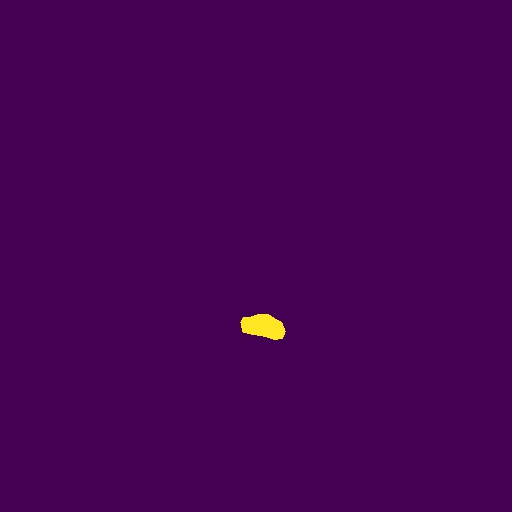Pituirity_tumour: (240, 314, 286, 340)
